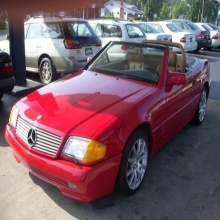no damage: (4, 40, 212, 202), (13, 17, 103, 79), (170, 20, 218, 48)
